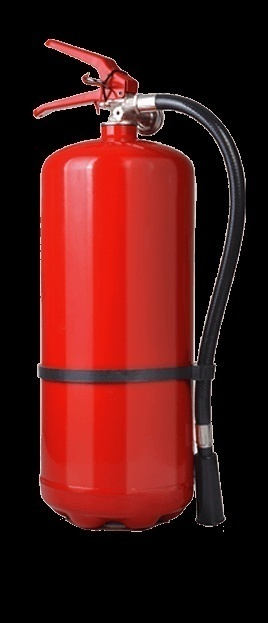fire_extinguisher: (33, 37, 247, 533)
